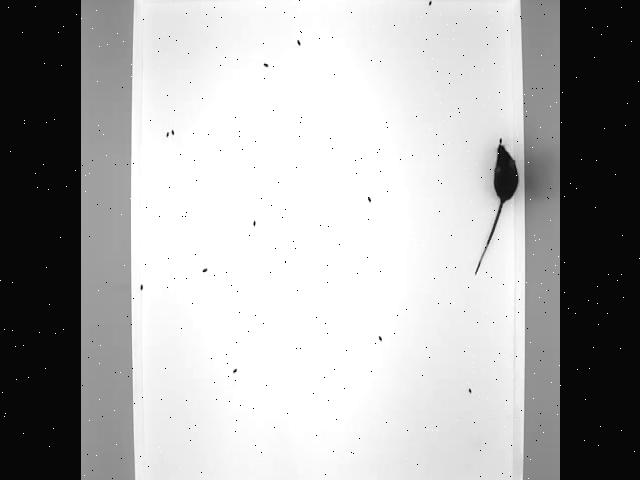Tikus: (473, 142, 518, 274)
